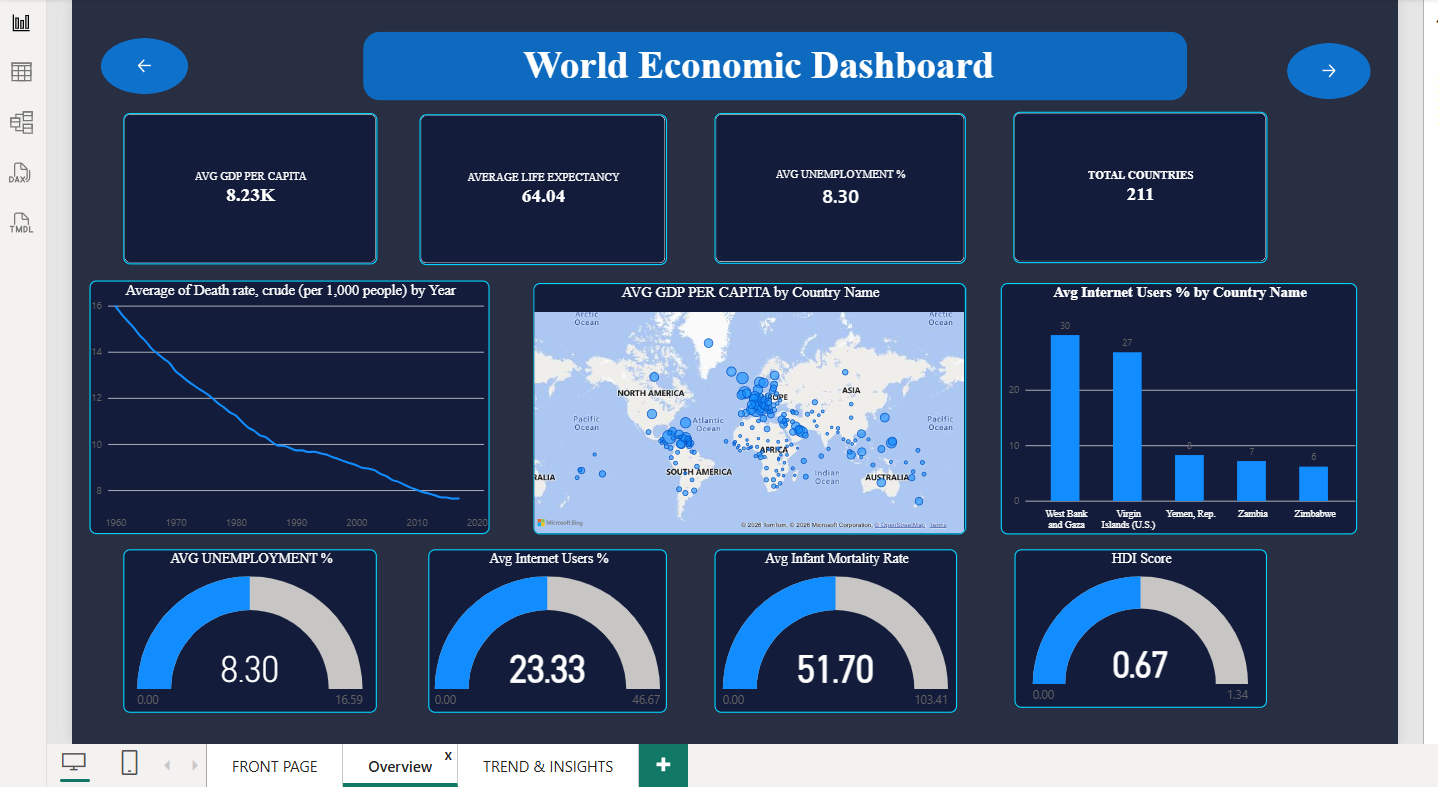

The page's visual inventory and layout, read from the dashboard file:
{"tool":"powerbi","page":{"name":"Overview","canvas":[1920,1080],"ordinal":1},"visuals":[{"type":"cardVisual","fields":{"Data":["Development Indicators.AVERAGE LIFE EXPECTANCY"]},"box":[503.1,168.3,358.1,218.2],"z":0},{"type":"cardVisual","fields":{"Data":["Development Indicators.AVG GDP PER CAPITA"]},"box":[74.2,166.5,368,219],"z":1000},{"type":"cardVisual","fields":{"Data":["Development Indicators.AVG UNEMPLOYMENT %"]},"box":[930.2,166.5,364.3,218.2],"z":2000},{"type":"cardVisual","fields":{"Data":["Development Indicators.TOTAL COUNTRIES"]},"box":[1362.7,164.7,368,219],"z":3000},{"type":"lineChart","fields":{"Category":["Development Indicators.Year"],"Y":["Avg(Development Indicators.Death rate, crude (per 1,000 people))"]},"box":[25.3,409,579.1,367.4],"z":4000},{"type":"map","fields":{"Category":["Development Indicators.Country Name"],"Size":["Development Indicators.AVG GDP PER CAPITA"]},"box":[667.8,412.6,626.1,363.7],"z":5000},{"type":"gauge","fields":{"Y":["Development Indicators.AVG UNEMPLOYMENT %"]},"box":[74.2,798.1,367.4,237.1],"z":6000},{"type":"gauge","fields":{"Y":["Development Indicators.Avg Internet Users %"]},"box":[515.8,798.1,345.6,237.1],"z":7000},{"type":"gauge","fields":{"Y":["Development Indicators.Avg Infant Mortality Rate"]},"box":[930.2,798.1,351.1,237.1],"z":8000},{"type":"gauge","fields":{"Y":["HDI.HDI Score"]},"box":[1364.5,798.1,365.6,229.8],"z":9000},{"type":"shape","box":[422.1,48.8,1193,99.4],"z":12000},{"type":"textbox","box":[277.3,47.1,1304.7,99.4],"z":13000},{"type":"textbox","box":[399.4,64.5,1187.8,68],"z":14000},{"type":"actionButton","box":[1759,65.1,121.2,81.4],"z":15000},{"type":"actionButton","box":[41.6,57.9,126.7,81.4],"z":16000},{"type":"clusteredColumnChart","fields":{"Category":["Development Indicators.Country Name"],"Y":["Development Indicators.Avg Internet Users %"]},"box":[1344.6,412.6,515.8,363.7],"z":16001}]}

Visuals, with their boxes on the page's 1920x1080 design canvas (x1, y1, x2, y2). These are canvas units, not pixel positions in the 1438x787 screenshot, which may show the page scaled, cropped or inside an application window:
cardVisual - Development Indicators.AVERAGE LIFE EXPECTANCY: (503, 168, 861, 386)
cardVisual - Development Indicators.AVG GDP PER CAPITA: (74, 166, 442, 386)
cardVisual - Development Indicators.AVG UNEMPLOYMENT %: (930, 166, 1294, 385)
cardVisual - Development Indicators.TOTAL COUNTRIES: (1363, 165, 1731, 384)
lineChart - Development Indicators.Year x Avg(Development Indicators.Death rate, crude (per 1,000 people)): (25, 409, 604, 776)
map - Development Indicators.Country Name x Development Indicators.AVG GDP PER CAPITA: (668, 413, 1294, 776)
gauge - Development Indicators.AVG UNEMPLOYMENT %: (74, 798, 442, 1035)
gauge - Development Indicators.Avg Internet Users %: (516, 798, 861, 1035)
gauge - Development Indicators.Avg Infant Mortality Rate: (930, 798, 1281, 1035)
gauge - HDI.HDI Score: (1364, 798, 1730, 1028)
shape: (422, 49, 1615, 148)
textbox: (277, 47, 1582, 146)
textbox: (399, 64, 1587, 132)
actionButton: (1759, 65, 1880, 146)
actionButton: (42, 58, 168, 139)
clusteredColumnChart - Development Indicators.Country Name x Development Indicators.Avg Internet Users %: (1345, 413, 1860, 776)
